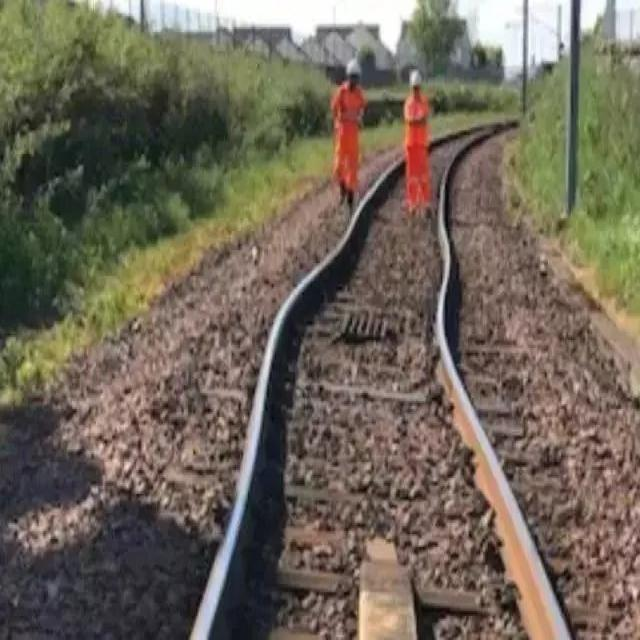people: (325, 62, 371, 219), (399, 68, 440, 227)
